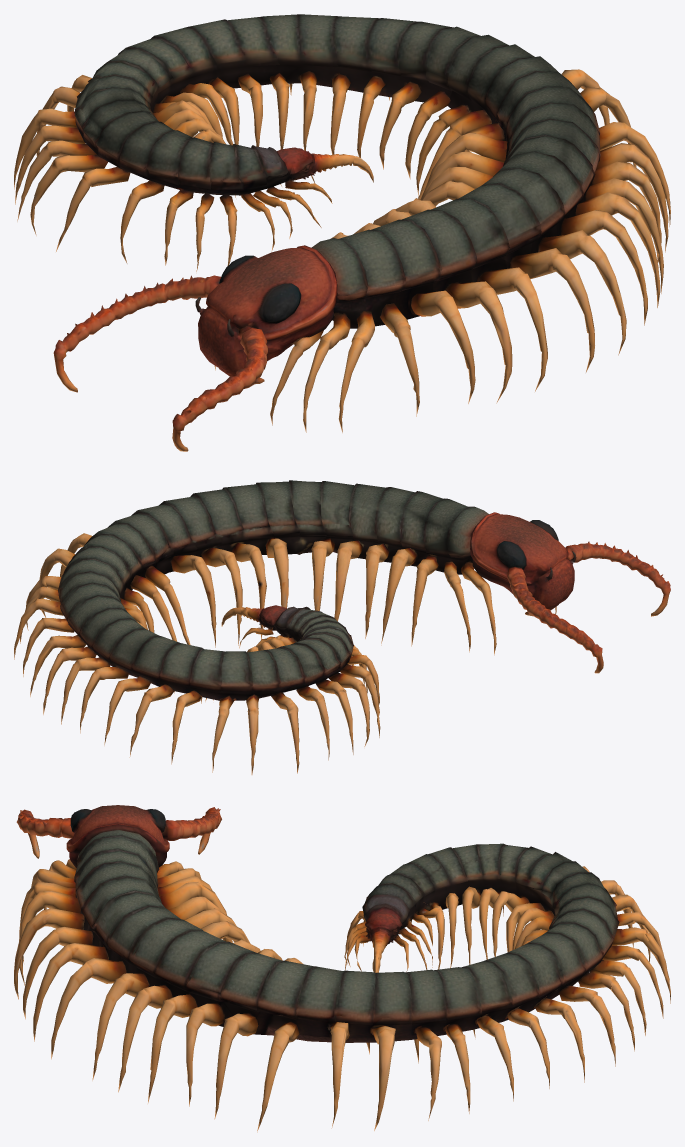
The model's file is CienpiesDesierto.glb.
The picture shows the model from 3 angles, top to bottom: view 1: azimuth 30°, elevation 25°; view 2: azimuth 150°, elevation 25°; view 3: azimuth 270°, elevation 25°; orthographic projection. The views are drawn at different scales.
Visible parts, largest first — view 1: Model_0; view 2: Model_0; view 3: Model_0.
Boxes of the visible parts, bbox=[...] form: Model_0: bbox=[14, 14, 670, 451]; Model_0: bbox=[14, 480, 670, 774]; Model_0: bbox=[14, 805, 670, 1132].
Size of the model in its own units: 1 by 0.2251 by 1.
1 material, 1 textured.
